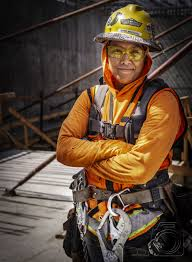safe person: (53, 5, 191, 262)
